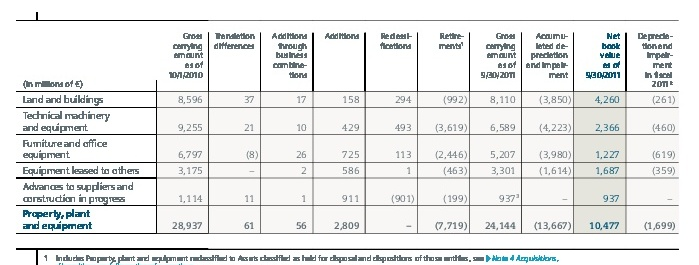table: (0, 0, 699, 265)
